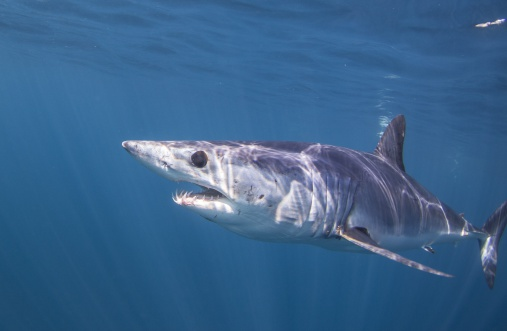Mako: (110, 110, 507, 304)
